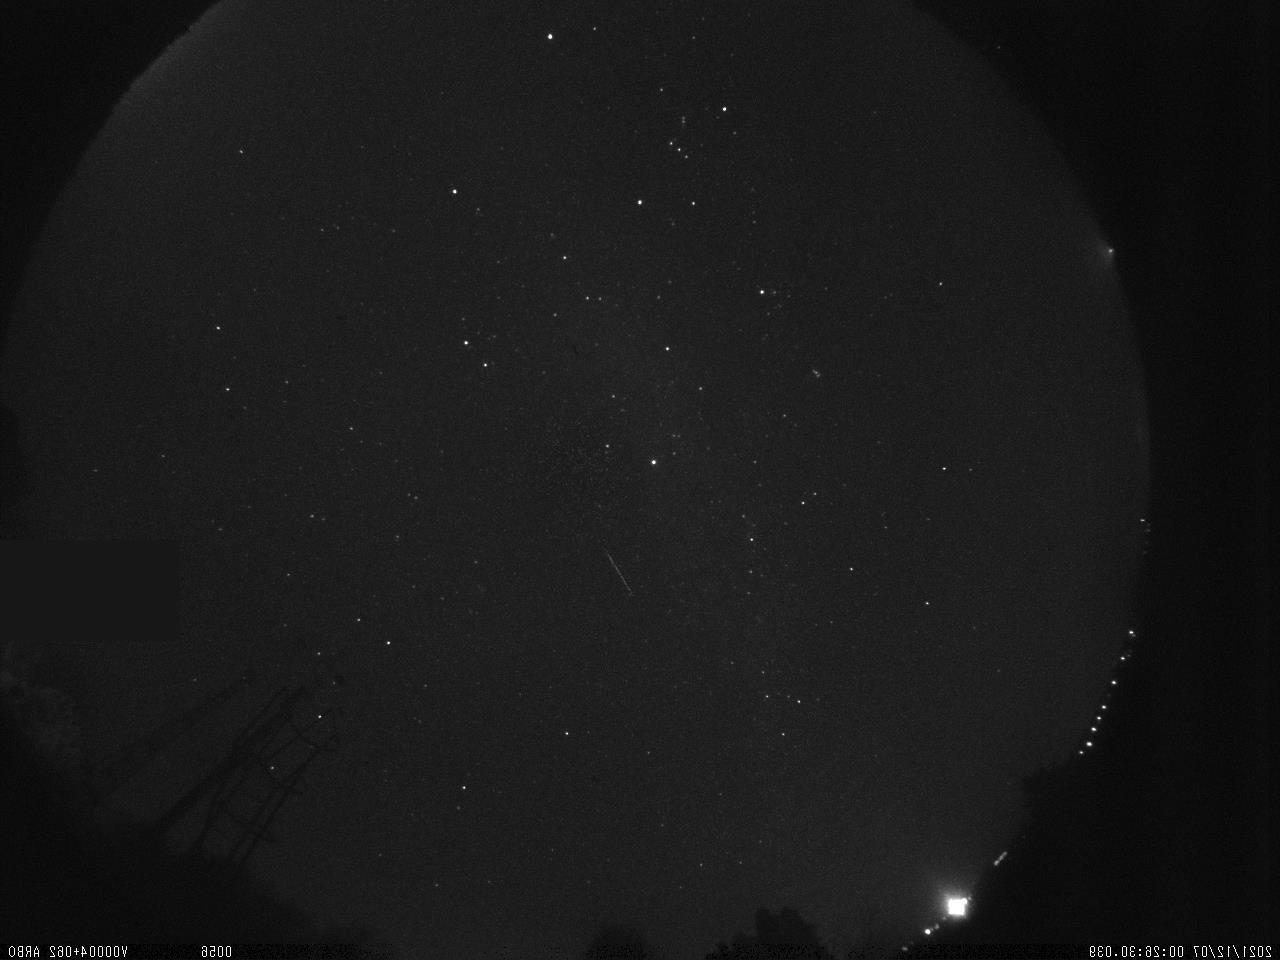meteor: (589, 544, 647, 598)
